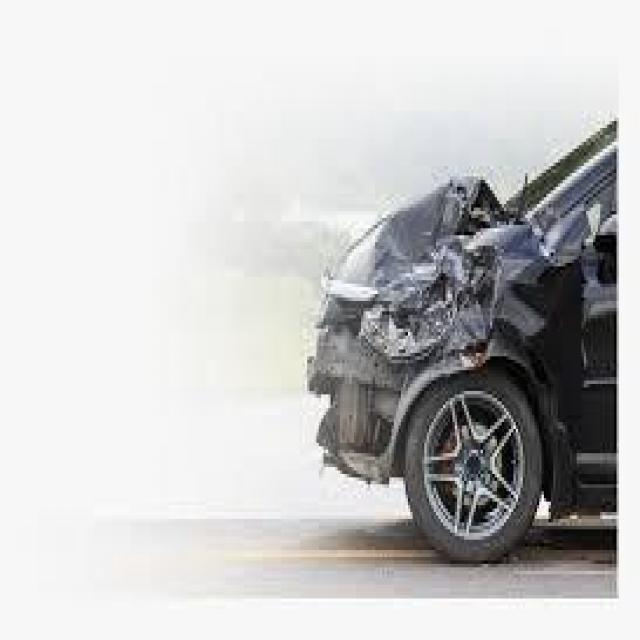damaged: (298, 155, 576, 516)
